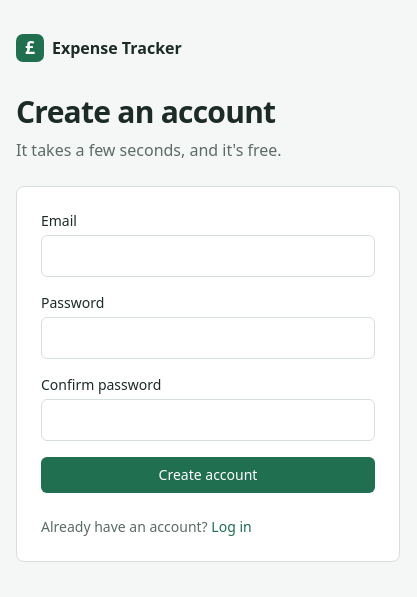
RegisterPage › shows the server's message for an email that is already registered
Step 1. Type "zain@example.com" into the field labelled "Email" → {"x": 208, "y": 256}, box [41,235,375,277]
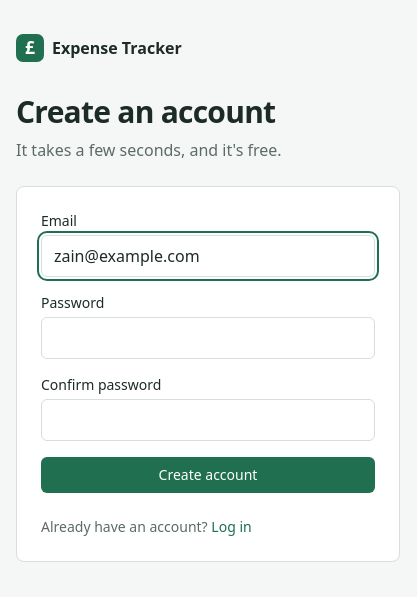
Step 2. Type "correct-horse-battery" into the password field labelled "Password" → {"x": 208, "y": 338}, box [41,317,375,359]
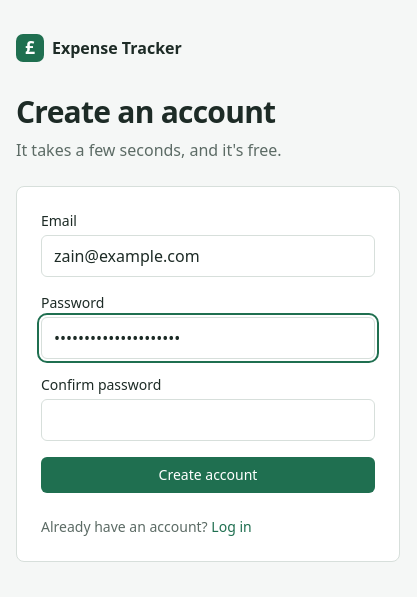
Step 3. Type "correct-horse-battery" into the password field labelled "Confirm password" → {"x": 208, "y": 420}, box [41,399,375,441]
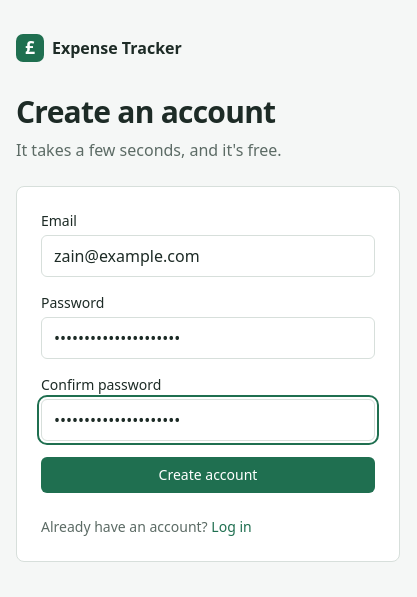
Step 4. Click the button "Create account" → {"x": 208, "y": 475}, box [41,457,375,493]
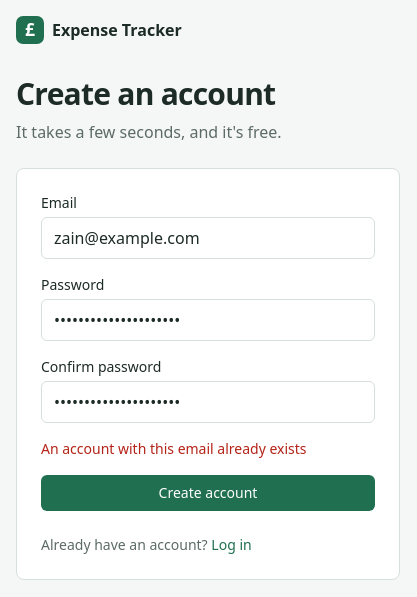
Now the message reads "An account with this email already exists", box [41,439,306,458]
